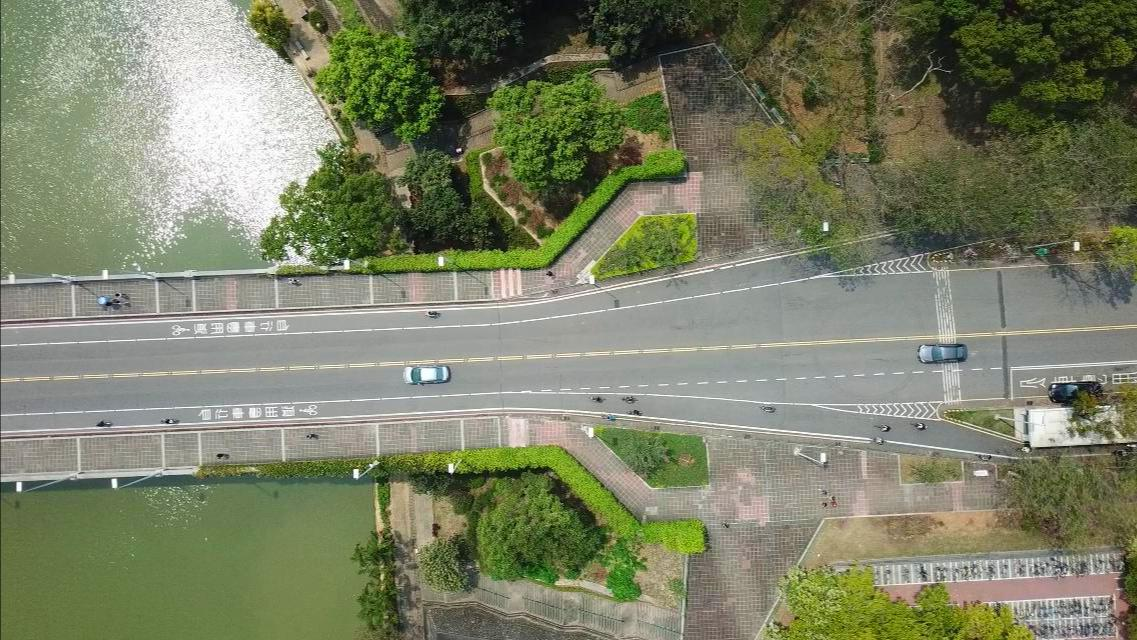vehicle: (1048, 381, 1102, 403), (918, 343, 967, 364), (403, 364, 450, 385)
